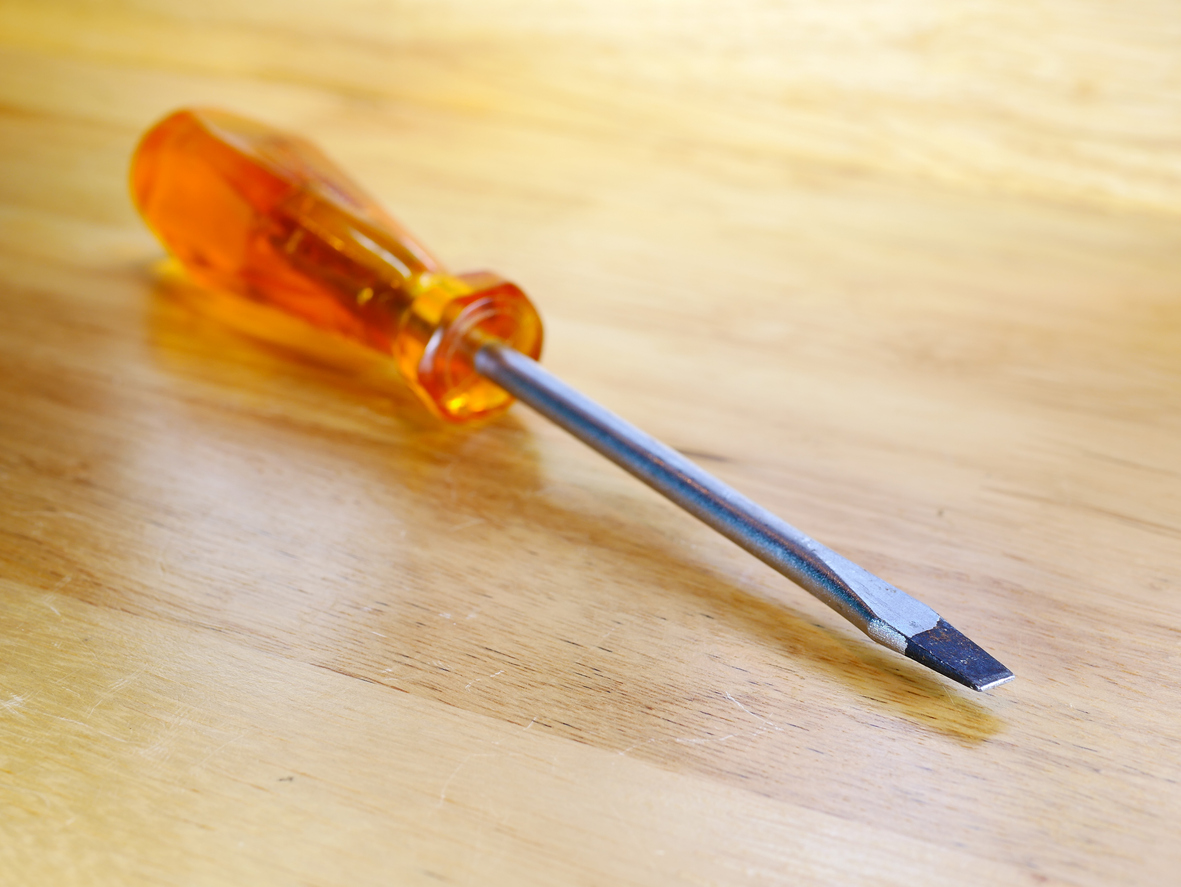screwdriver: (117, 88, 1024, 697)
